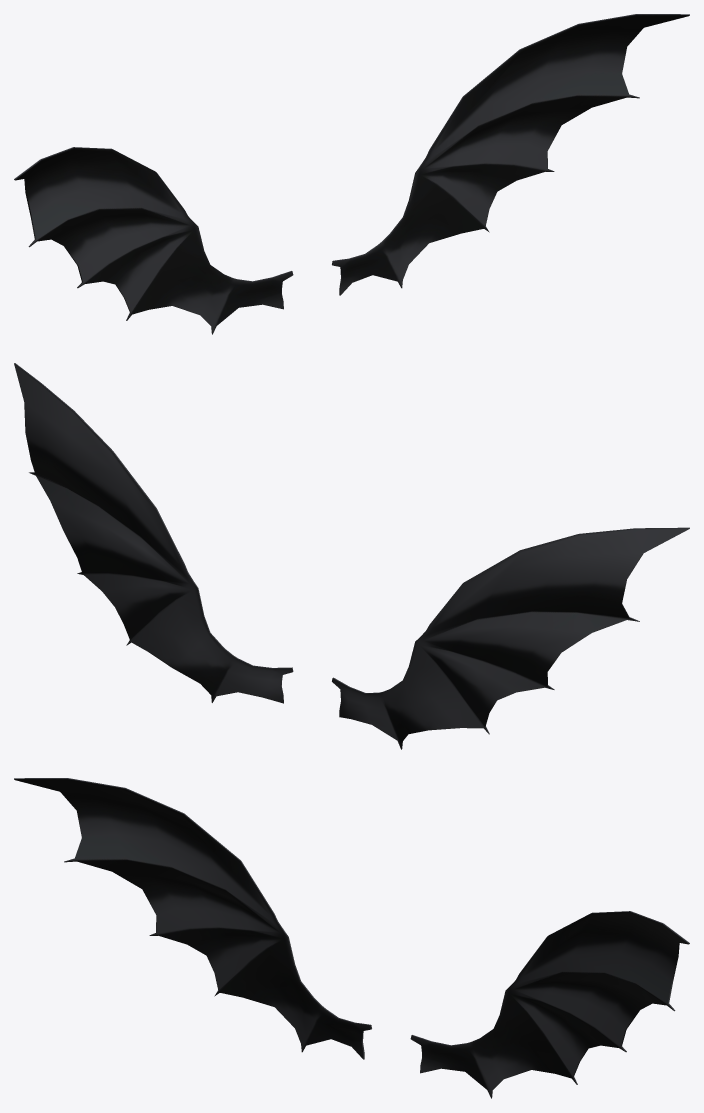
The model's file is Bat_Wings.glb.
The picture shows the model from 3 angles, top to bottom: view 1: azimuth 30°, elevation 25°; view 2: azimuth 150°, elevation 25°; view 3: azimuth 330°, elevation 25°; orthographic projection.
Visible parts, largest first — view 1: Bat Wings; view 2: Bat Wings; view 3: Bat Wings.
Boxes of the visible parts, left/top/right/bottom form: Bat Wings: left=14, top=14, right=689, bottom=334; Bat Wings: left=14, top=363, right=689, bottom=749; Bat Wings: left=14, top=778, right=689, bottom=1098.
Bounding box in the file's own units: 3.5 × 1.23 × 0.4715.
Materials: 1 (1 with a texture image).
